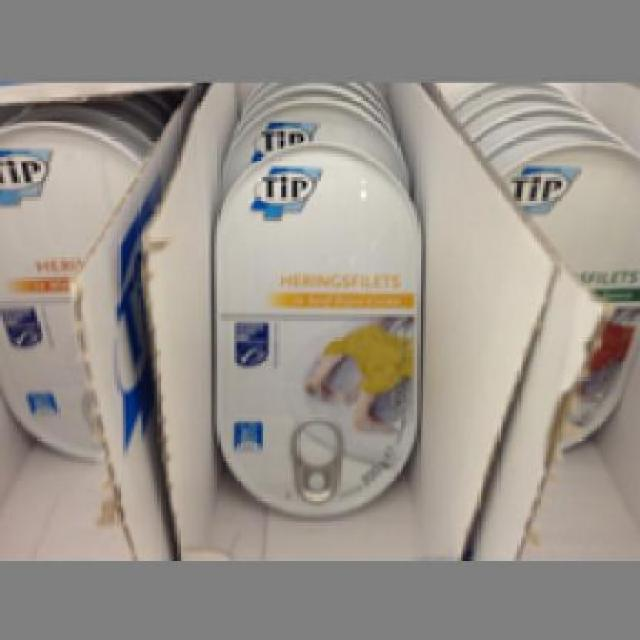Fish: (206, 140, 423, 517), (488, 133, 638, 470), (0, 116, 135, 458)
